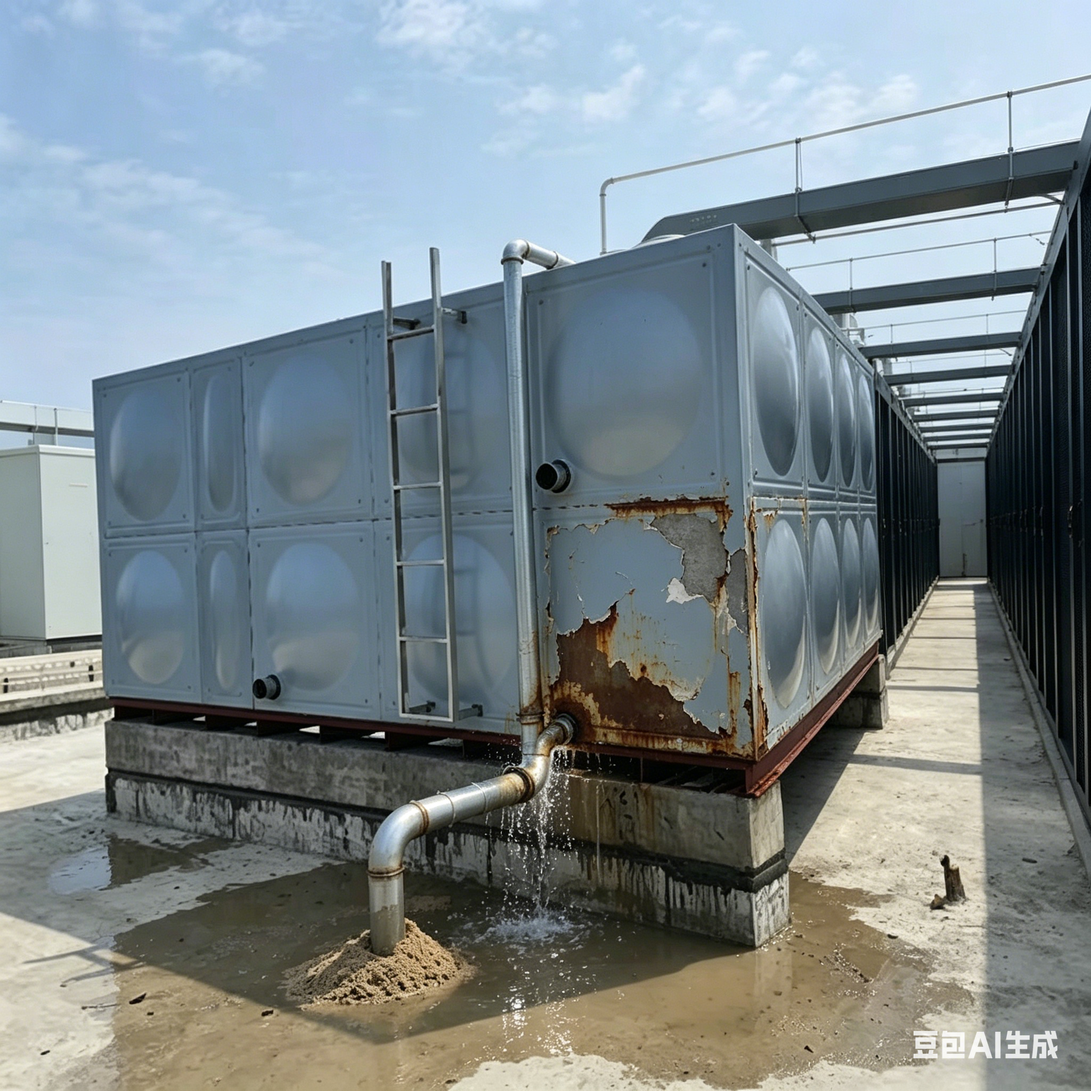Leakage: (604, 852, 953, 1083), (122, 937, 485, 1091), (497, 718, 592, 1057), (180, 872, 489, 933), (50, 828, 154, 896)
